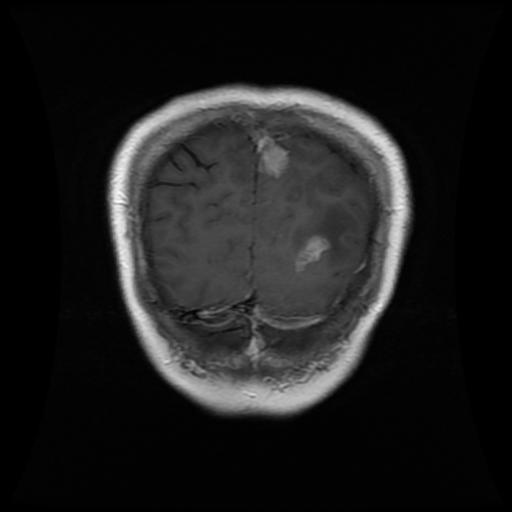Gliomia_tumour: (289, 165, 362, 270)
